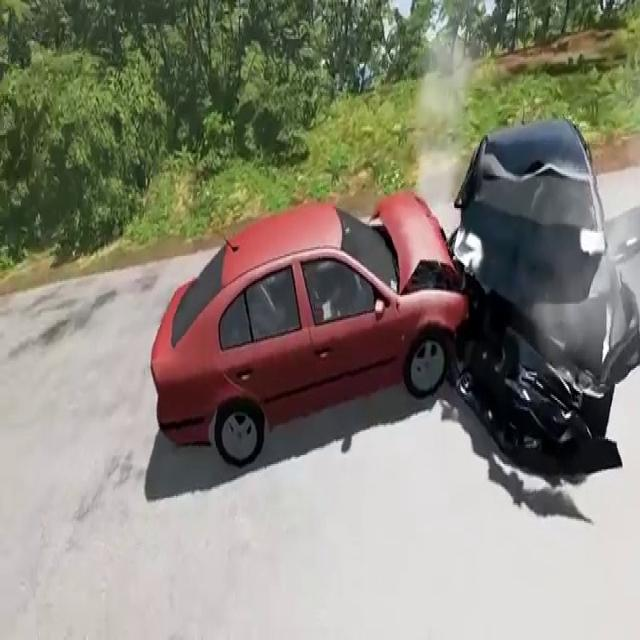moderate: (141, 102, 640, 490)
